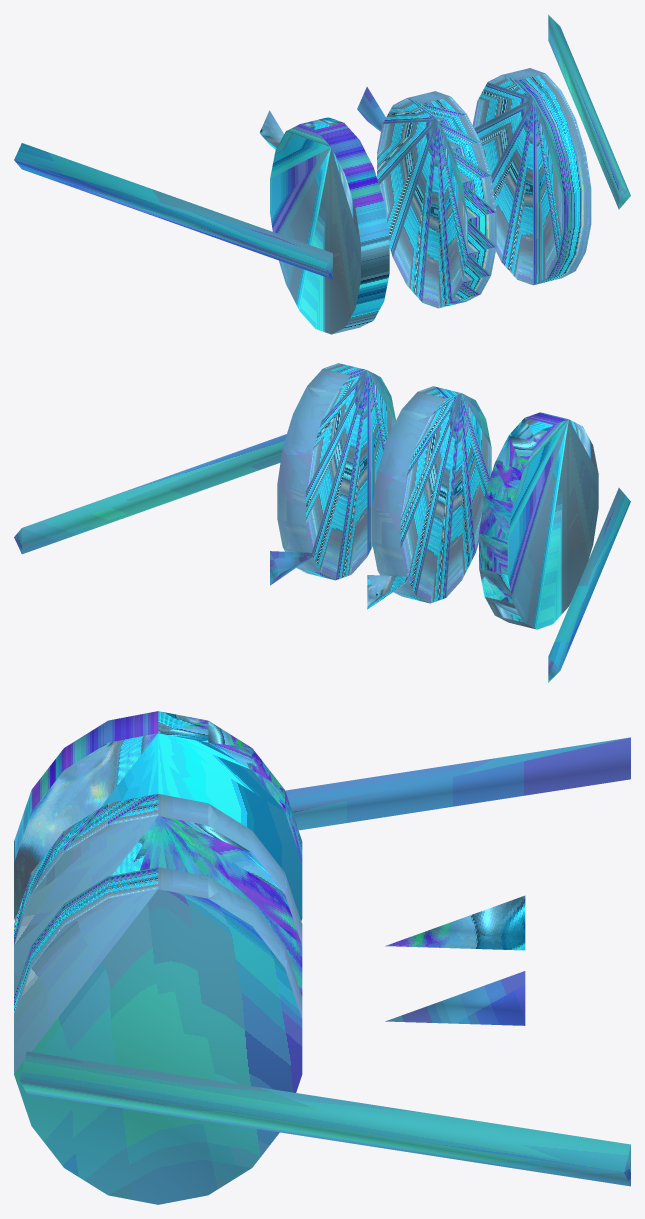
File: staloreanmatrix_3db.gltf
3 views of the same model, one above another, from view 1: azimuth 30°, elevation 25°; view 2: azimuth 150°, elevation 25°; view 3: azimuth 270°, elevation 25° (orthographic). The views are drawn at different scales.
Visible parts, largest first — view 1: staloreanmatrix.3db; view 2: staloreanmatrix.3db; view 3: staloreanmatrix.3db.
Boxes of the visible parts, <box> form: staloreanmatrix.3db: <box>14,14,630,334</box>; staloreanmatrix.3db: <box>14,363,630,682</box>; staloreanmatrix.3db: <box>14,711,630,1204</box>.
Size of the model in its own units: 34.64 by 12.07 by 21.38.
Materials: 1 (1 with a texture image).
